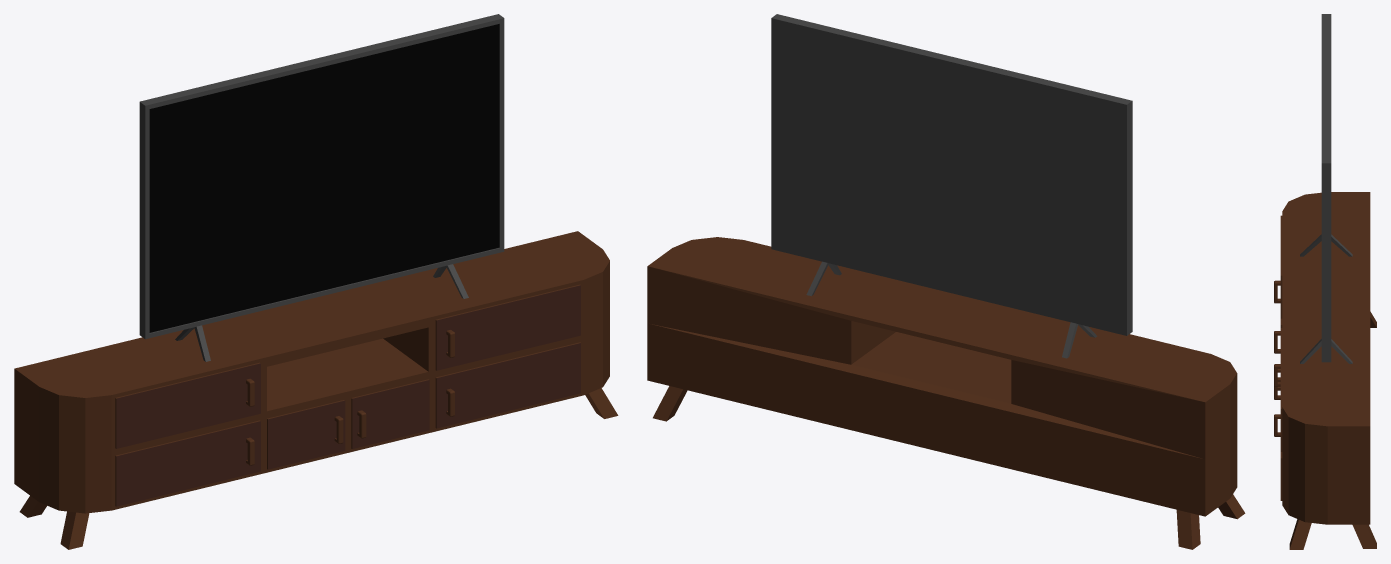
The model's file is tv with cupboard maskwatch.fbx.
3 renders of one model, left to right at view 1: azimuth 30°, elevation 25°; view 2: azimuth 150°, elevation 25°; view 3: azimuth 270°, elevation 25°, orthographic. The views are drawn at different scales.
Visible parts, largest first — view 1: tv; view 2: tv; view 3: tv.
Boxes of the visible parts, x1,y1,x2,y2 form: tv: [14, 14, 618, 549]; tv: [647, 14, 1245, 549]; tv: [1274, 14, 1376, 549].
Bounding box in the file's own units: 2.39 × 1.65 × 0.4437.
